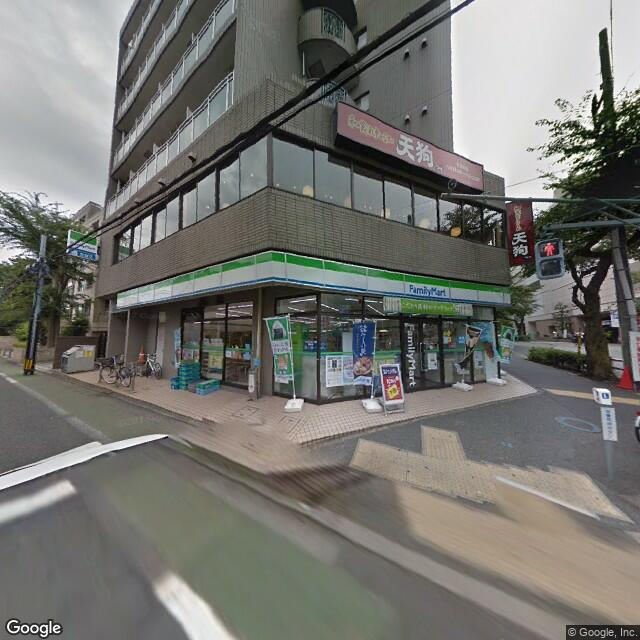family_mart: (108, 250, 513, 310), (398, 274, 452, 302), (67, 227, 99, 259)
